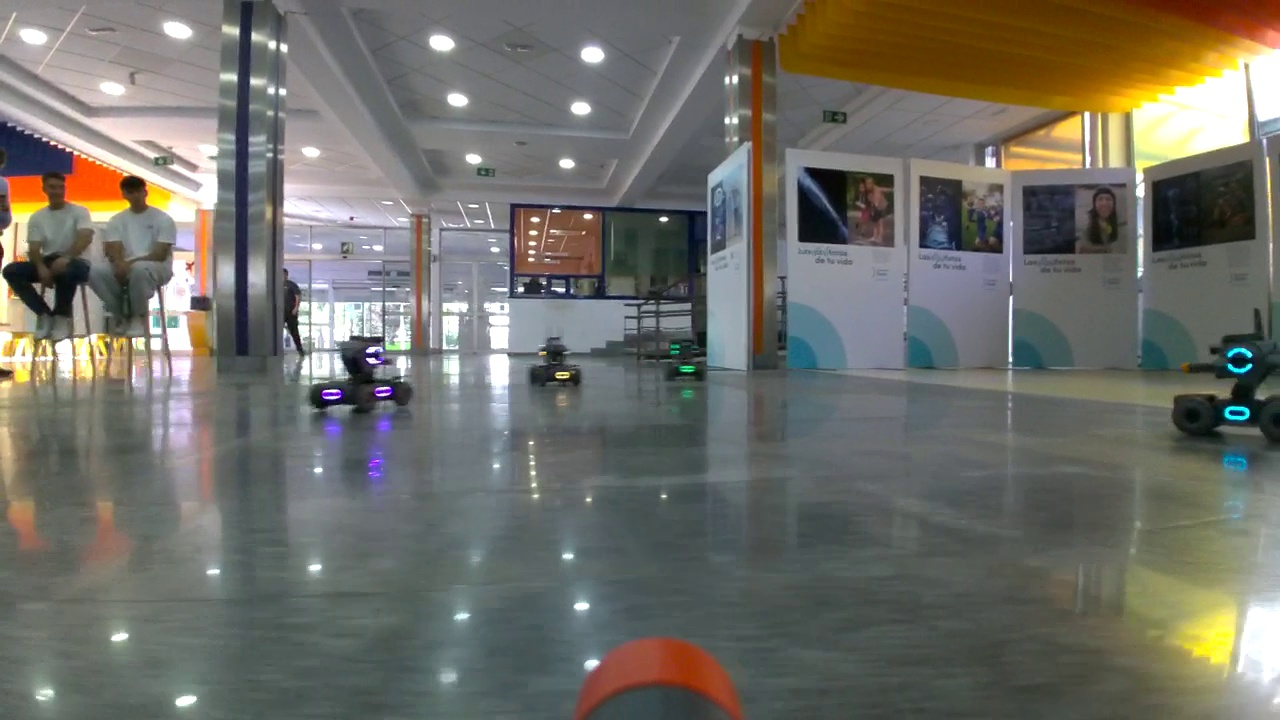robot: (1172, 307, 1280, 450), (310, 332, 413, 411), (531, 334, 582, 389), (664, 339, 708, 380)
